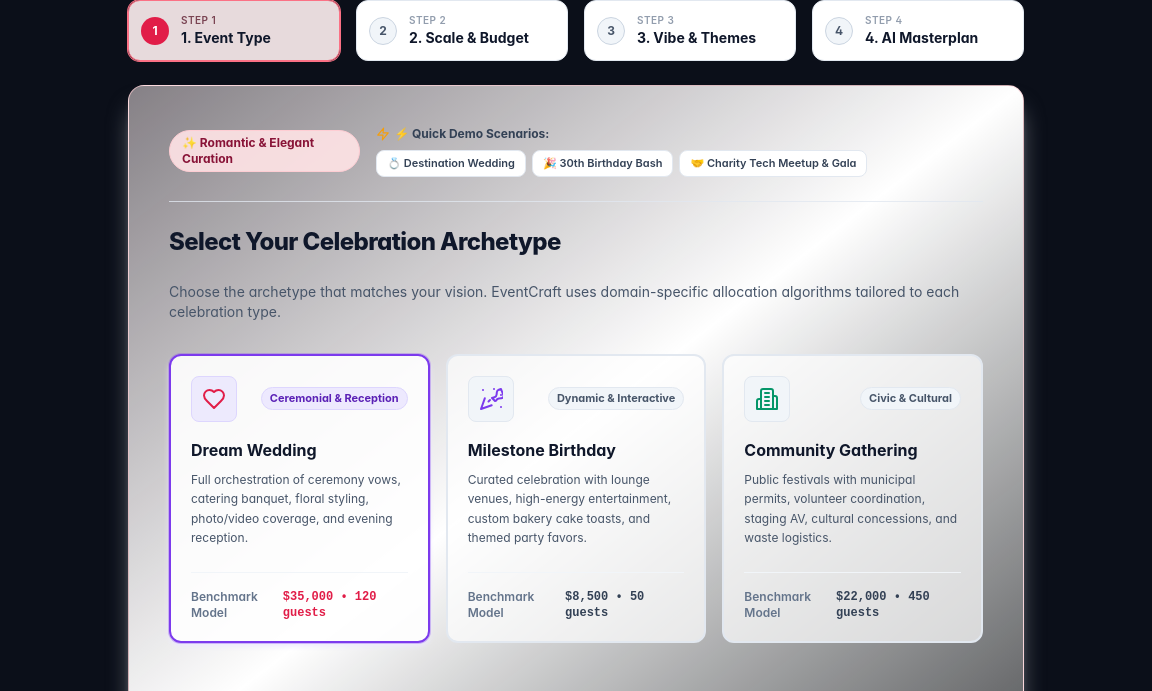
Test: EventWizard Component (WCAG 2.1 AA & Keyboard UX) › populates fields instantly via Quick Demo Scenarios and announces to screen reader
Click the button with aria-label "Load demo preset: Destination Wedding (120 guests, $35,000)".
click(451, 163)  # box [376,150,526,176]
(page scrolled)
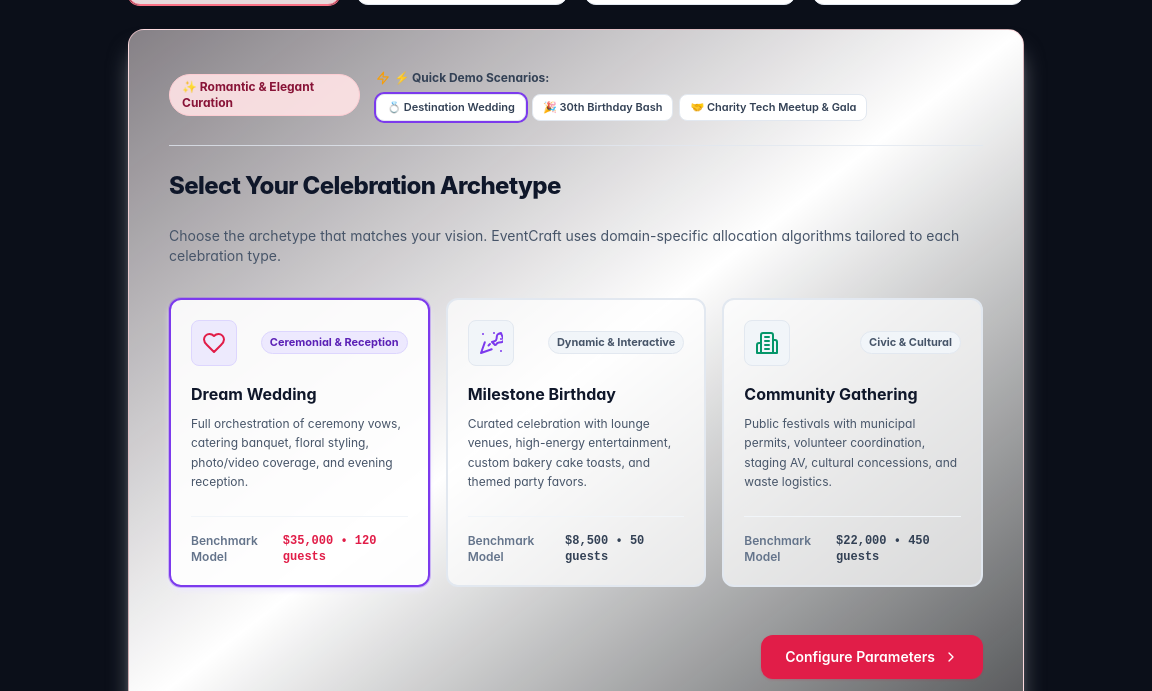
Advance to Step 2
Click the button "Configure Parameters".
click(872, 656)  # box [761,634,983,678]
(page scrolled)
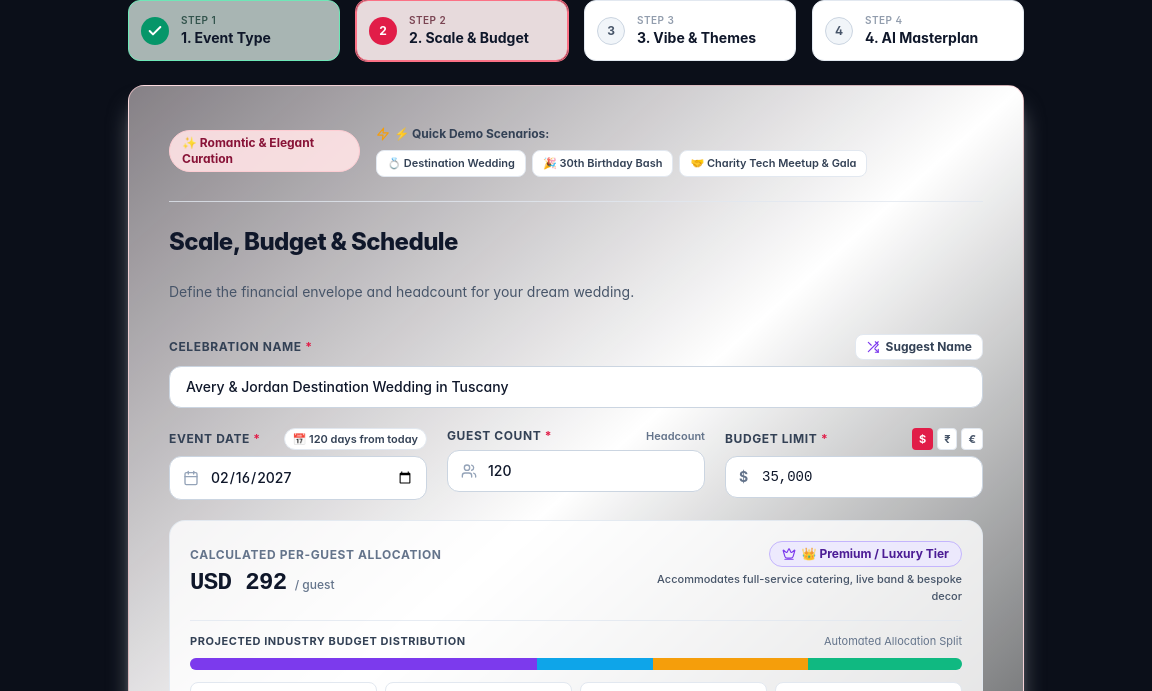
Expected: the number field labelled "Guest Count *" holds "120", [447,450,705,492]
Expected: the text "USD 292" is shown, [190,566,287,598]
Expected: the text "👑 Premium / Luxury Tier" is shown, [802,546,949,562]
